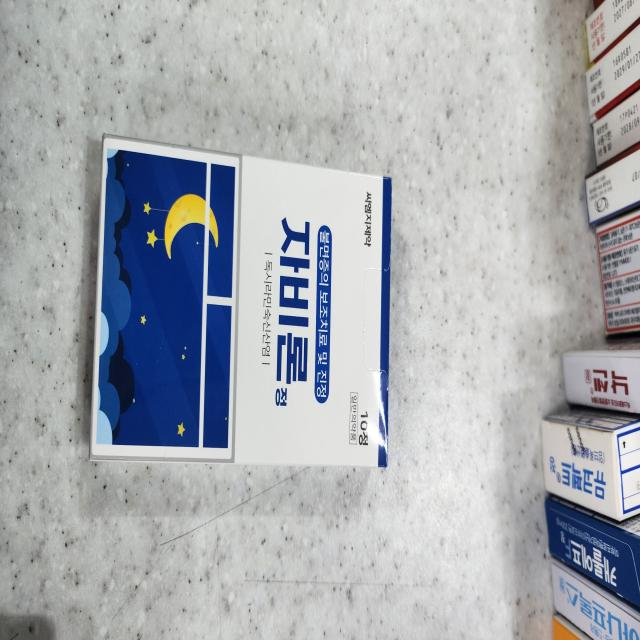box: (94, 137, 390, 466), (543, 408, 640, 522)
